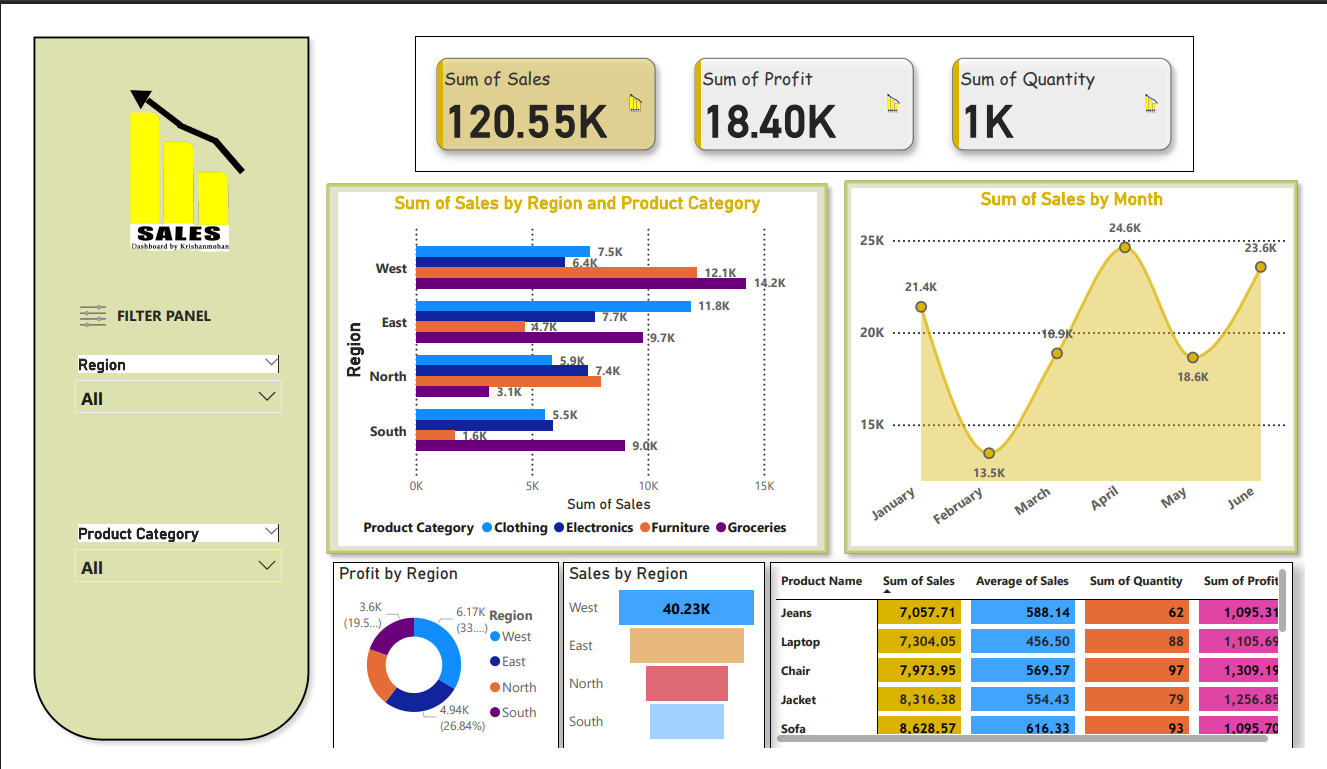

The dashboard page shown, as its layout file describes it:
{"tool":"powerbi","page":{"name":"Page 1","canvas":[1280,720],"ordinal":0},"visuals":[{"type":"shape","box":[0,0,293.1,720.6],"z":0},{"type":"image","box":[0,0,307.7,288.2],"z":1000},{"type":"cardVisual","fields":{"Data":["Sum(Sheet1.Sales)","Sum(Sheet1.Profit)","Sum(Sheet1.Quantity)"]},"box":[390.2,8.1,778.8,136],"z":2000},{"type":"slicer","fields":{"Values":["Sheet1.Region"]},"box":[40.5,322.2,226.7,183],"z":3000},{"type":"slicer","fields":{"Values":["Sheet1.Product Category"]},"box":[40.5,490.6,226.7,168.4],"z":4000},{"type":"shape","box":[293.1,147.3,518.2,387],"z":5000},{"type":"clusteredBarChart","fields":{"Category":["Sheet1.Region"],"Y":["Sum(Sheet1.Sales)"],"Series":["Sheet1.Product Category"]},"box":[312.5,163.5,479.3,354.6],"z":6000},{"type":"shape","box":[811.2,144.1,469.6,390.2],"z":7000},{"type":"lineChart","fields":{"Category":["Sheet1.Sales Date.Variation.Date Hierarchy.Month"],"Y":["Sum(Sheet1.Sales)"]},"box":[825.8,160.3,442,357.8],"z":8000},{"type":"pivotTable","fields":{"Rows":["Sheet1.Product Name"],"Values":["Sum(Sheet1.Sales)","Avg(Sheet1.Sales)","Sum(Sheet1.Quantity)","Sum(Sheet1.Profit)"]},"box":[744.8,534.3,523,186.2],"z":9000},{"type":"donutChart","title":"Profit by Region","fields":{"Y":["Sum(Sheet1.Profit)"],"Category":["Sheet1.Region"]},"box":[307.7,534.3,226.7,186.2],"z":10000},{"type":"textbox","box":[87.4,272,115,34],"z":11000},{"type":"image","box":[48.6,270.4,38.9,35.6],"z":12000},{"type":"funnel","title":"Sales by Region","fields":{"Y":["Sum(Sheet1.Sales)"],"Category":["Sheet1.Region"]},"box":[537.6,534.3,202.4,186.2],"z":12001}]}

Visuals, with their boxes in screenshot pixels (x1, y1, x2, y2), scaled from the page's 1280x720 canvas onto the 1327x769 screenshot:
shape: <bbox>0, 0, 304, 768</bbox>
image: <bbox>0, 0, 319, 308</bbox>
cardVisual - Sum(Sheet1.Sales) x Sum(Sheet1.Profit): <bbox>405, 9, 1212, 154</bbox>
slicer - Sheet1.Region: <bbox>42, 344, 277, 540</bbox>
slicer - Sheet1.Product Category: <bbox>42, 524, 277, 704</bbox>
shape: <bbox>304, 157, 841, 571</bbox>
clusteredBarChart - Sheet1.Region x Sum(Sheet1.Sales): <bbox>324, 175, 821, 553</bbox>
shape: <bbox>841, 154, 1326, 571</bbox>
lineChart - Sheet1.Sales Date.Variation.Date Hierarchy.Month x Sum(Sheet1.Sales): <bbox>856, 171, 1314, 553</bbox>
pivotTable - Sheet1.Product Name x Sum(Sheet1.Sales): <bbox>772, 571, 1314, 768</bbox>
"Profit by Region" donutChart: <bbox>319, 571, 554, 768</bbox>
textbox: <bbox>91, 291, 210, 327</bbox>
image: <bbox>50, 289, 91, 327</bbox>
"Sales by Region" funnel: <bbox>557, 571, 767, 768</bbox>
